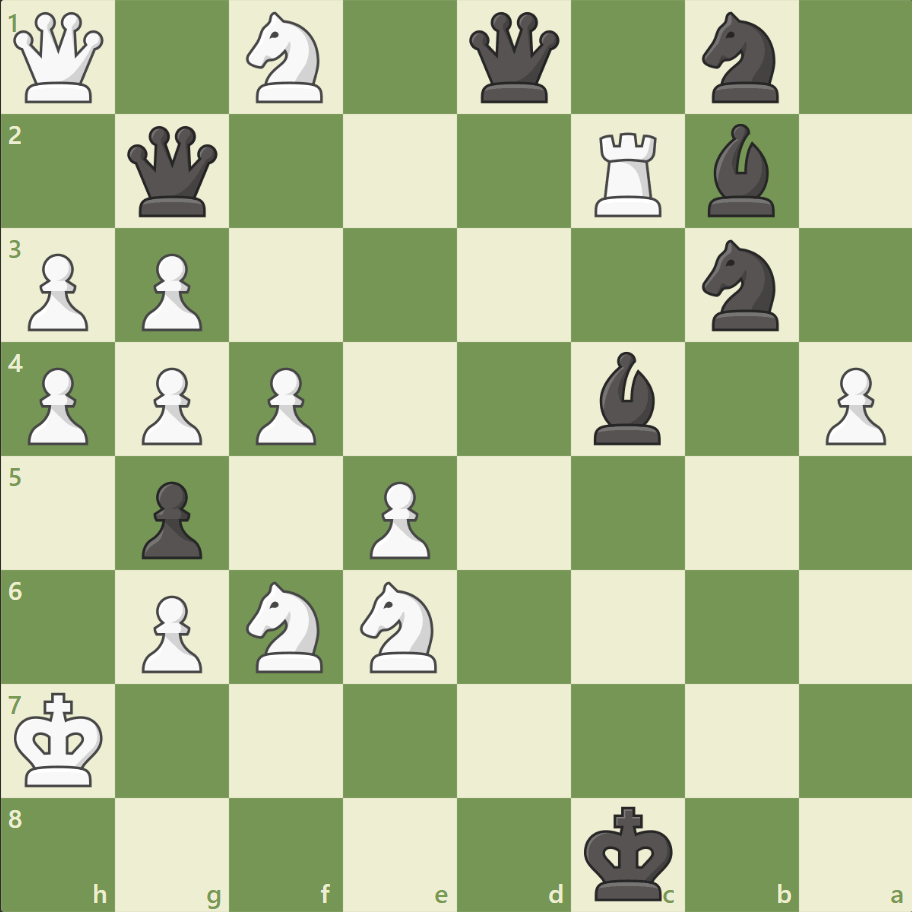K: (11, 685, 111, 793)
N: (351, 575, 449, 677), (238, 7, 335, 110), (238, 575, 335, 677)
P: (133, 586, 208, 677), (247, 359, 322, 450), (133, 359, 208, 450), (20, 359, 95, 450), (133, 246, 208, 337), (20, 246, 95, 337), (361, 473, 435, 564), (815, 359, 889, 450)
Q: (10, 9, 109, 108)
R: (587, 125, 670, 222)
b: (585, 347, 669, 449), (698, 120, 782, 222)
k: (579, 798, 679, 906)
n: (692, 234, 789, 337), (692, 7, 789, 110)
p: (133, 473, 208, 564)
q: (124, 122, 223, 222), (464, 9, 563, 108)
